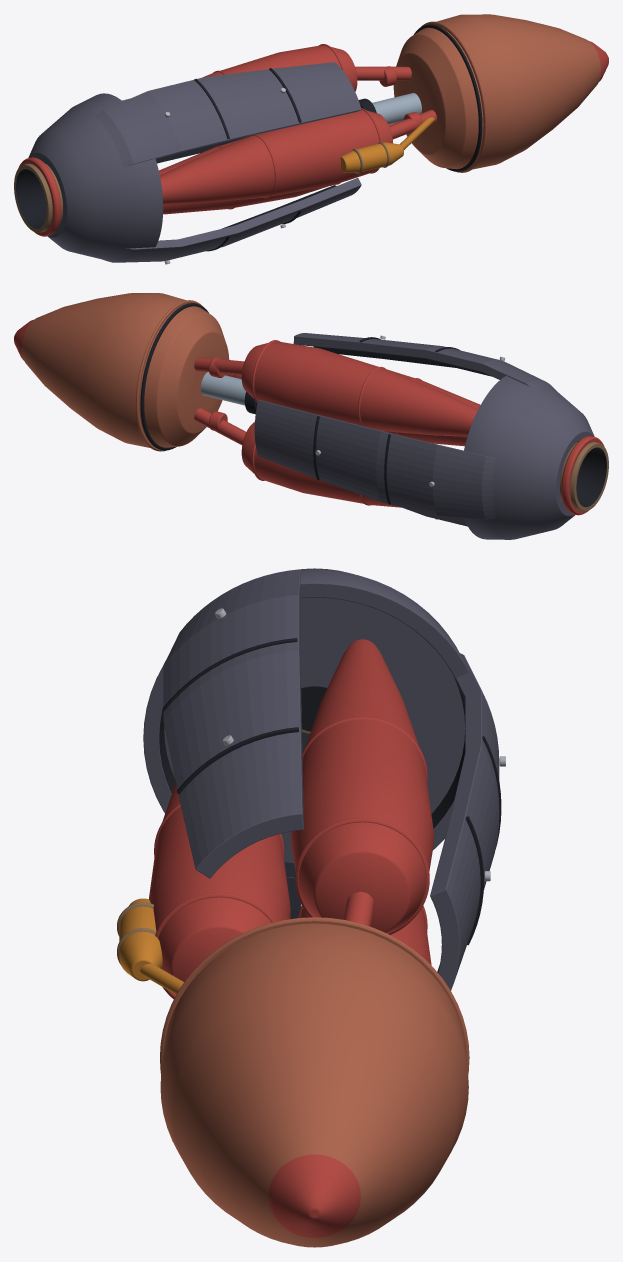
3 views of the same model, one above another, from view 1: azimuth 30°, elevation 25°; view 2: azimuth 150°, elevation 25°; view 3: azimuth 270°, elevation 25° (orthographic). The views are drawn at different scales.
Parts seen in each view (by area): view 1: TI090 / Napalm pear pressure head, TI090 / Napalm thick angular shroud.002, TI090 / Napalm open lower cup, TI090 / Napalm tapered red reservoir.001, TI090 / Napalm thick angular shroud.001, TI090 / Napalm hollow nozzle, TI090 / Napalm tapered red reservoir.002, TI090 / Napalm tapered red reservoir, TI090 / Napalm forward amber feed bottle, TI090 / Napalm central exposed actuator, TI090 / Napalm nozzle retaining ring, TI090 / Napalm head lower joint (+4 smaller); view 2: TI090 / Napalm pear pressure head, TI090 / Napalm thick angular shroud, TI090 / Napalm open lower cup, TI090 / Napalm tapered red reservoir.002, TI090 / Napalm thick angular shroud.002, TI090 / Napalm tapered red reservoir, TI090 / Napalm hollow nozzle, TI090 / Napalm central exposed actuator, TI090 / Napalm tapered red reservoir.001, TI090 / Napalm nozzle retaining ring, TI090 / Napalm head lower joint, TI090 / Napalm head joint rim (+2 smaller); view 3: TI090 / Napalm pear pressure head, TI090 / Napalm thick angular shroud.002, TI090 / Napalm tapered red reservoir.002, TI090 / Napalm annular reservoir support, TI090 / Napalm tapered red reservoir.001, TI090 / Napalm thick angular shroud, TI090 / Napalm open lower cup, TI090 / Napalm red nose cap, TI090 / Napalm head joint rim, TI090 / Napalm forward amber feed bottle, TI090 / Napalm reservoir seam.005, TI090 / Napalm tapered red reservoir.
Part boxes in pixels (bbox=[...]): TI090 / Napalm pear pressure head: bbox=[393, 14, 601, 169]; TI090 / Napalm thick angular shroud.002: bbox=[95, 62, 361, 166]; TI090 / Napalm open lower cup: bbox=[28, 93, 163, 259]; TI090 / Napalm tapered red reservoir.001: bbox=[160, 110, 392, 204]; TI090 / Napalm thick angular shroud.001: bbox=[103, 178, 361, 262]; TI090 / Napalm hollow nozzle: bbox=[14, 163, 62, 232]; TI090 / Napalm tapered red reservoir.002: bbox=[201, 45, 357, 91]; TI090 / Napalm tapered red reservoir: bbox=[159, 137, 327, 214]; TI090 / Napalm forward amber feed bottle: bbox=[340, 142, 403, 172]; TI090 / Napalm central exposed actuator: bbox=[372, 93, 421, 124]; TI090 / Napalm nozzle retaining ring: bbox=[18, 157, 61, 236]; TI090 / Napalm head lower joint: bbox=[414, 24, 482, 171]; TI090 / Napalm pear pressure head: bbox=[21, 293, 229, 447]; TI090 / Napalm thick angular shroud: bbox=[254, 400, 496, 519]; TI090 / Napalm open lower cup: bbox=[464, 375, 594, 539]; TI090 / Napalm tapered red reservoir.002: bbox=[241, 341, 478, 436]; TI090 / Napalm thick angular shroud.002: bbox=[293, 333, 555, 389]; TI090 / Napalm tapered red reservoir: bbox=[241, 422, 403, 507]; TI090 / Napalm hollow nozzle: bbox=[560, 442, 608, 511]; TI090 / Napalm central exposed actuator: bbox=[201, 372, 245, 405]; TI090 / Napalm tapered red reservoir.001: bbox=[383, 370, 480, 446]; TI090 / Napalm nozzle retaining ring: bbox=[561, 436, 604, 515]; TI090 / Napalm head lower joint: bbox=[140, 303, 208, 450]; TI090 / Napalm head joint rim: bbox=[136, 300, 201, 451]; TI090 / Napalm pear pressure head: bbox=[160, 923, 468, 1247]; TI090 / Napalm thick angular shroud.002: bbox=[163, 569, 303, 878]; TI090 / Napalm tapered red reservoir.002: bbox=[291, 639, 433, 933]; TI090 / Napalm annular reservoir support: bbox=[164, 597, 465, 863]; TI090 / Napalm tapered red reservoir.001: bbox=[149, 783, 290, 996]; TI090 / Napalm thick angular shroud: bbox=[430, 653, 499, 990]; TI090 / Napalm open lower cup: bbox=[143, 568, 469, 878]; TI090 / Napalm red nose cap: bbox=[268, 1154, 360, 1238]; TI090 / Napalm head joint rim: bbox=[160, 917, 469, 1074]; TI090 / Napalm forward amber feed bottle: bbox=[119, 898, 162, 981]; TI090 / Napalm reservoir seam.005: bbox=[295, 818, 429, 934]; TI090 / Napalm tapered red reservoir: bbox=[300, 908, 431, 965].
Bounding box in the file's own units: 6.13 × 1.71 × 1.79.
